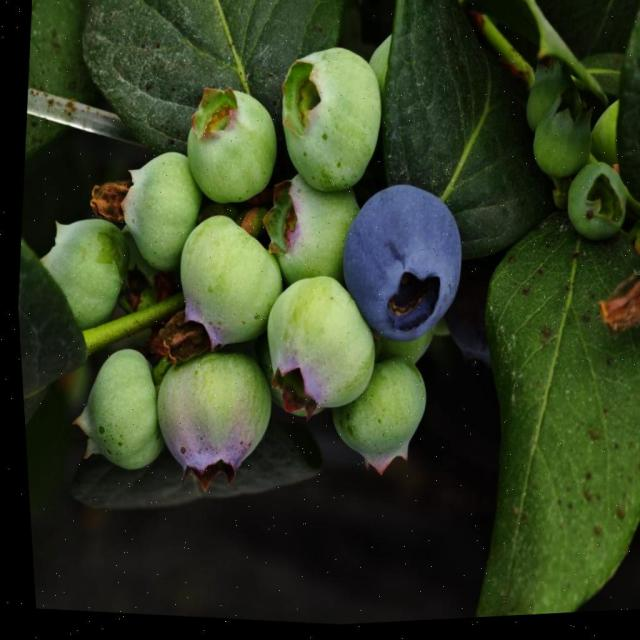RipeBlueBerry: (326, 177, 473, 357)
UnripeBlueBerry: (248, 268, 384, 433), (264, 41, 391, 205), (140, 346, 276, 494), (162, 206, 285, 360), (314, 350, 431, 484), (172, 79, 282, 215), (99, 143, 206, 282), (251, 170, 366, 296), (60, 342, 162, 479), (29, 207, 130, 332)
